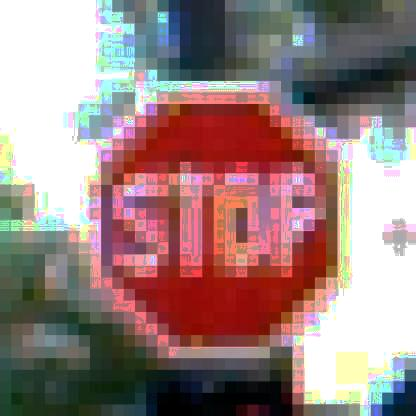Stop Sign: (81, 79, 350, 365)
